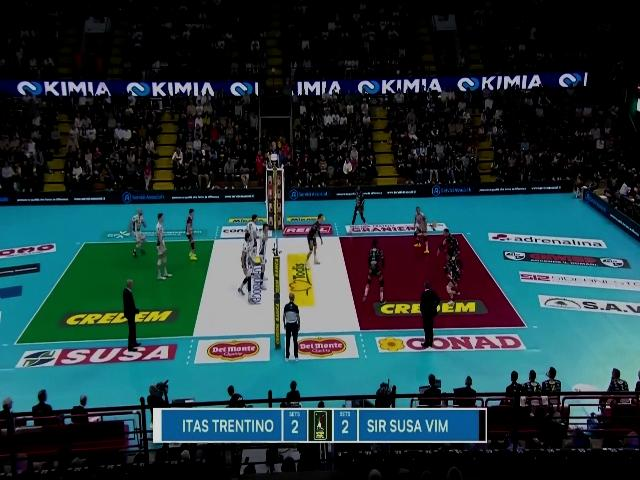volleyball court: (16, 231, 529, 347)
